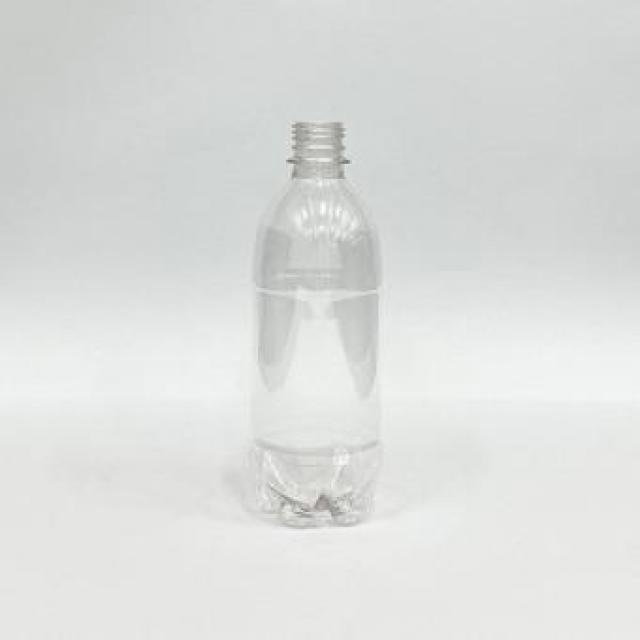bottle: (243, 108, 394, 537)
